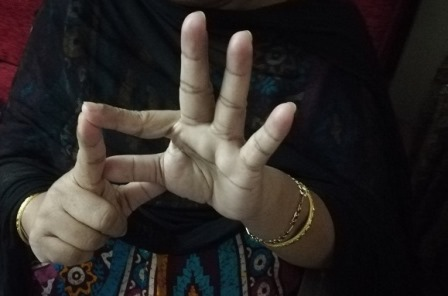k: (56, 10, 298, 216)
